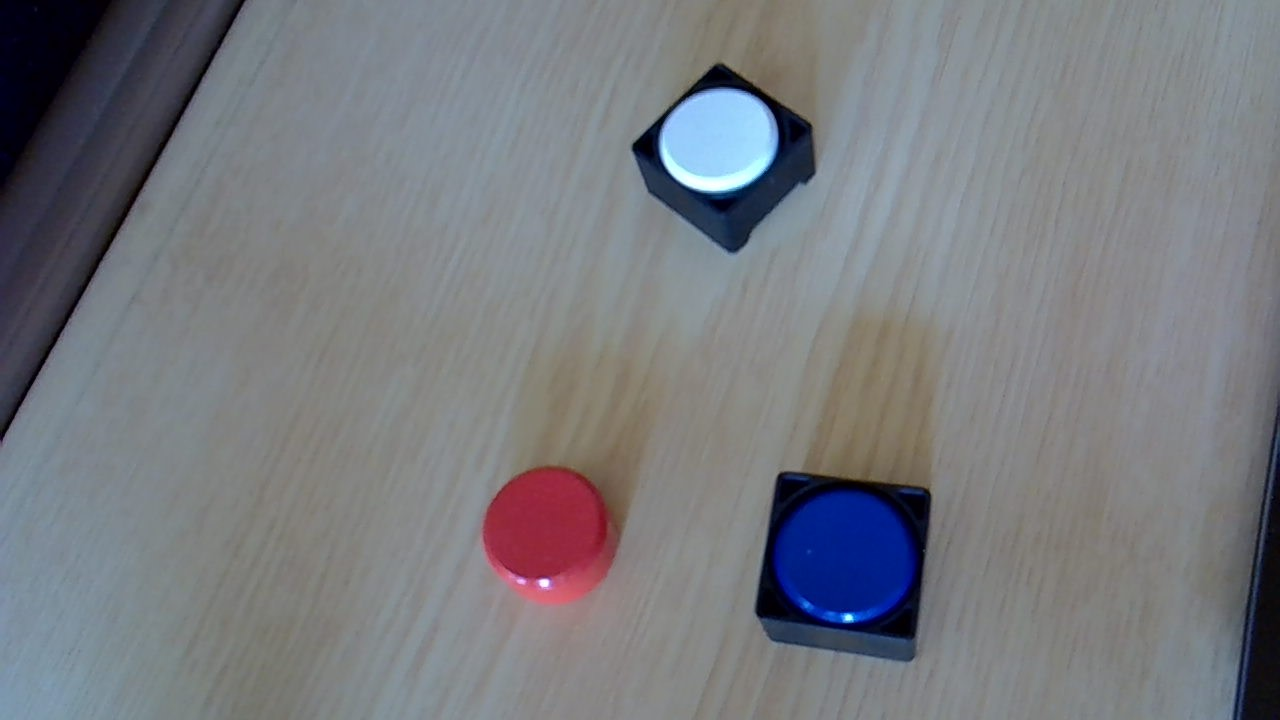Behaelter: (630, 60, 823, 257), (753, 469, 925, 670)
WerkStueck: (480, 466, 626, 607), (773, 493, 919, 627), (658, 88, 778, 192)
